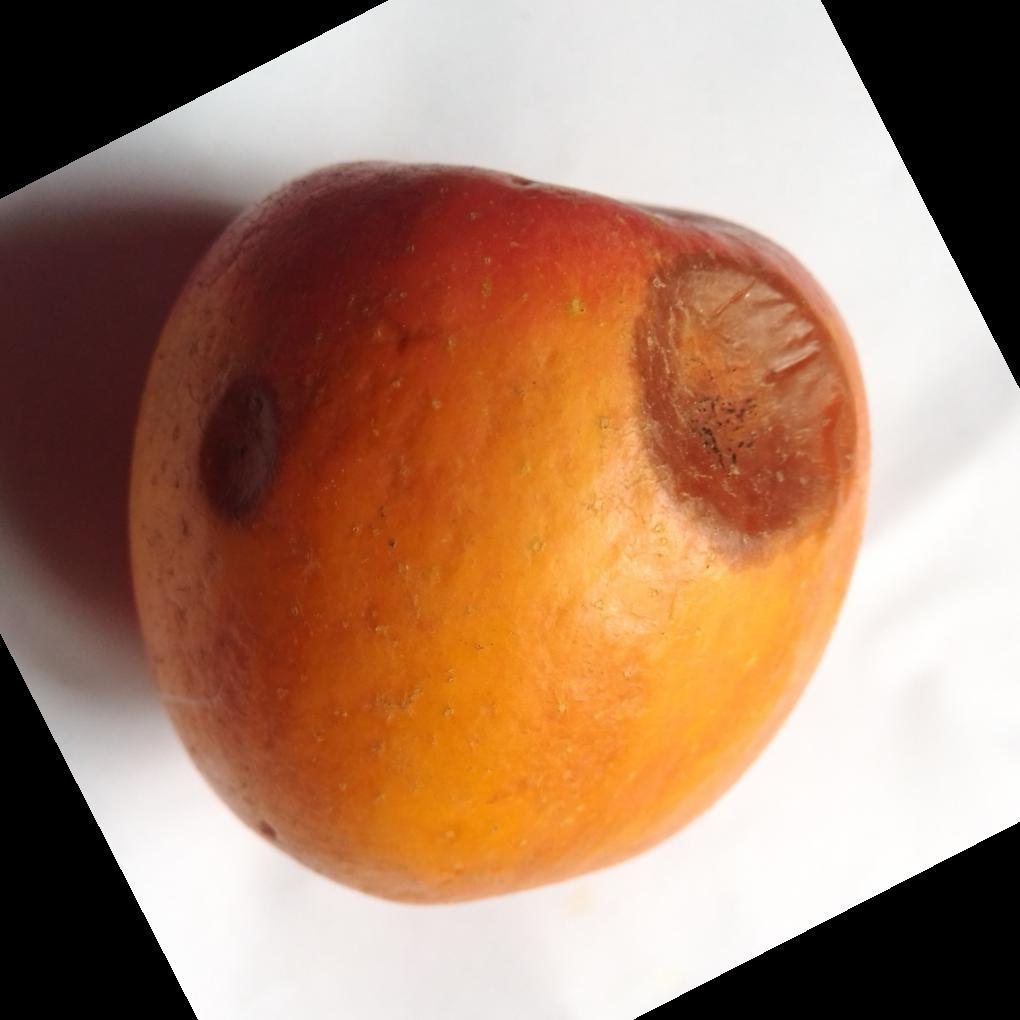FreshOrange: (124, 161, 873, 911)
